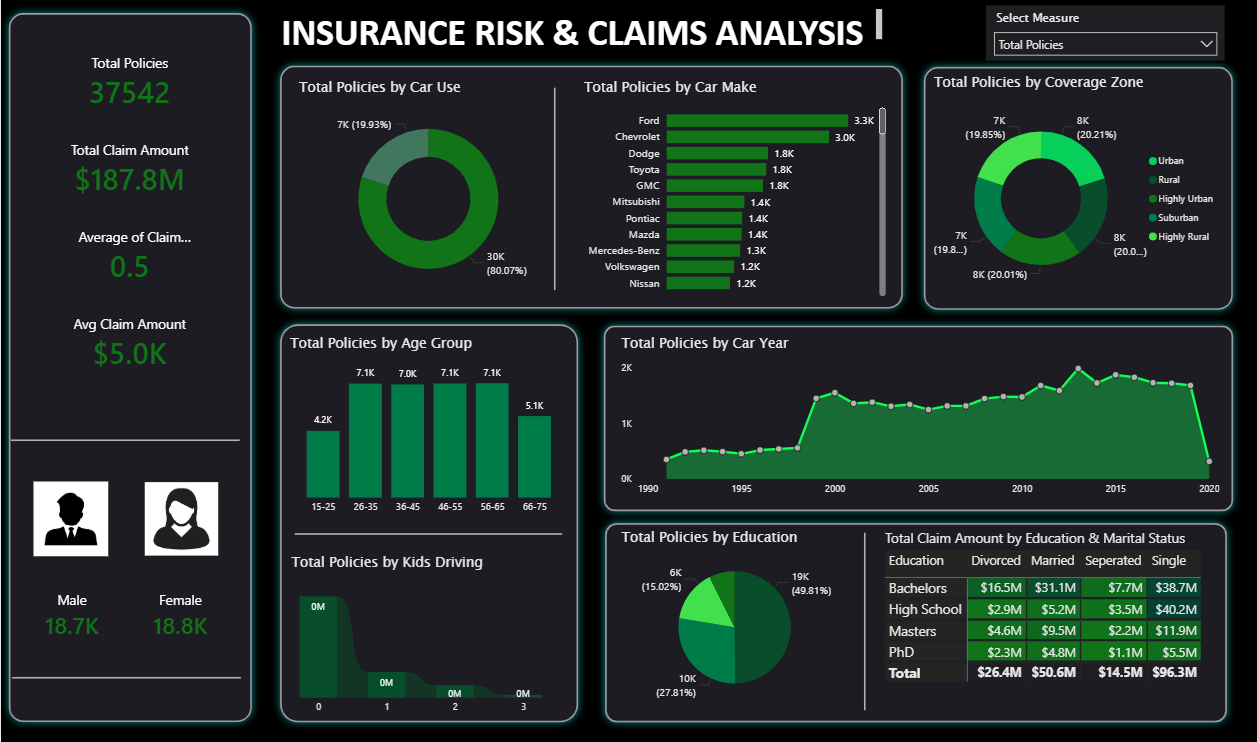

This screenshot's page, from the dashboard's own definition file:
{"tool":"powerbi","page":{"name":"Page 1","canvas":[1600,950],"ordinal":0},"visuals":[{"type":"textbox","box":[351.8,8,775.2,57.3],"z":0},{"type":"shape","box":[0,8.6,329.3,922.8],"z":1000},{"type":"cardVisual","fields":{"Data":["insurance_data_car.Total Policies","insurance_data_car.Total Claim Amount","Avg(insurance_data_car.Claim Freq)","insurance_data_car.Avg Claim Amount"]},"box":[50.9,43,226,460],"z":2000},{"type":"cardVisual","fields":{"Data":["insurance_data_car.Male Count","insurance_data_car.Female Count"]},"box":[14.3,730.7,291.3,109.8],"z":3000},{"type":"image","box":[41.4,614.4,95.5,95.5],"z":4000},{"type":"image","box":[183.1,614.4,93.9,95.5],"z":5000},{"type":"slicer","fields":{"Values":["Select Measure.Select Measure"]},"box":[1254.4,8,304,70],"z":6000},{"type":"shape","box":[344.8,75.5,813,329.3],"z":7000},{"type":"donutChart","fields":{"Y":["insurance_data_car.Total Policies"],"Category":["insurance_data_car.Car Use"]},"box":[374.1,98.7,340.7,284.9],"z":8000},{"type":"clusteredBarChart","fields":{"Y":["insurance_data_car.Total Policies"],"Category":["insurance_data_car.Car Make"]},"box":[737,98.7,394.8,284.9],"z":9000},{"type":"shape","box":[1164.7,77.2,413.4,329.3],"z":10000},{"type":"donutChart","fields":{"Y":["insurance_data_car.Total Policies"],"Category":["insurance_data_car.Coverage Zone"]},"box":[1182.7,92.3,375.7,296.1],"z":11000},{"type":"shape","box":[345.4,404.3,399.5,526.9],"z":12000},{"type":"clusteredColumnChart","fields":{"Y":["insurance_data_car.Total Policies"],"Category":["insurance_data_car.Age Group"]},"box":[363.6,425.4,365.4,240.1],"z":13000},{"type":"ribbonChart","fields":{"Y":["insurance_data_car.Total Policies"],"Category":["insurance_data_car.Kids Driving"]},"box":[364.5,703.6,340.7,216.5],"z":14000},{"type":"shape","box":[757.7,405.9,821.4,256.3],"z":15000},{"type":"areaChart","fields":{"Y":["insurance_data_car.Total Policies"],"Category":["insurance_data_car.Car Year"]},"box":[784.8,425,772,216.5],"z":16000},{"type":"shape","box":[759.3,657.4,811.8,273.8],"z":17000},{"type":"pieChart","fields":{"Y":["insurance_data_car.Total Policies"],"Category":["insurance_data_car.Education"]},"box":[784.8,671.8,299.3,230],"z":18000},{"type":"pivotTable","title":"Total Claim Amount by Education & Marital Status","fields":{"Rows":["insurance_data_car.Education"],"Columns":["insurance_data_car.Marital Status"],"Values":["insurance_data_car.Total Claim Amount"]},"box":[1120.6,674.9,436.2,237.2],"z":19000},{"type":"shape","box":[671.8,113,66.9,257.9],"z":20000},{"type":"shape","box":[1066.5,679.7,66.9,226],"z":21000},{"type":"shape","box":[374.1,665.4,340.7,31.8],"z":22000},{"type":"shape","box":[14.3,848.4,291.3,31.8],"z":23000},{"type":"shape","box":[12.7,546,291.3,31.8],"z":24000}]}

Visuals, with their boxes in screenshot pixels (x1, y1, x2, y2), scaled from the page's 1600x950 canvas onto the 1257x742 screenshot:
textbox: [276, 6, 885, 51]
shape: [0, 7, 259, 727]
cardVisual - insurance_data_car.Total Policies x insurance_data_car.Total Claim Amount: [40, 34, 218, 393]
cardVisual - insurance_data_car.Male Count x insurance_data_car.Female Count: [11, 571, 240, 656]
image: [33, 480, 108, 554]
image: [144, 480, 218, 554]
slicer - Select Measure.Select Measure: [985, 6, 1224, 61]
shape: [271, 59, 910, 316]
donutChart - insurance_data_car.Total Policies x insurance_data_car.Car Use: [294, 77, 562, 300]
clusteredBarChart - insurance_data_car.Total Policies x insurance_data_car.Car Make: [579, 77, 889, 300]
shape: [915, 60, 1240, 317]
donutChart - insurance_data_car.Total Policies x insurance_data_car.Coverage Zone: [929, 72, 1224, 303]
shape: [271, 316, 585, 727]
clusteredColumnChart - insurance_data_car.Total Policies x insurance_data_car.Age Group: [286, 332, 573, 520]
ribbonChart - insurance_data_car.Total Policies x insurance_data_car.Kids Driving: [286, 550, 554, 719]
shape: [595, 317, 1241, 517]
areaChart - insurance_data_car.Total Policies x insurance_data_car.Car Year: [617, 332, 1223, 501]
shape: [597, 513, 1234, 727]
pieChart - insurance_data_car.Total Policies x insurance_data_car.Education: [617, 525, 852, 704]
"Total Claim Amount by Education & Marital Status" pivotTable: [880, 527, 1223, 712]
shape: [528, 88, 580, 290]
shape: [838, 531, 890, 707]
shape: [294, 520, 562, 545]
shape: [11, 663, 240, 687]
shape: [10, 426, 239, 451]
